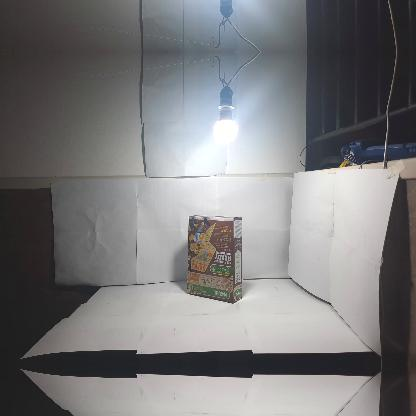Koko-Krunch: (186, 215, 242, 303)
